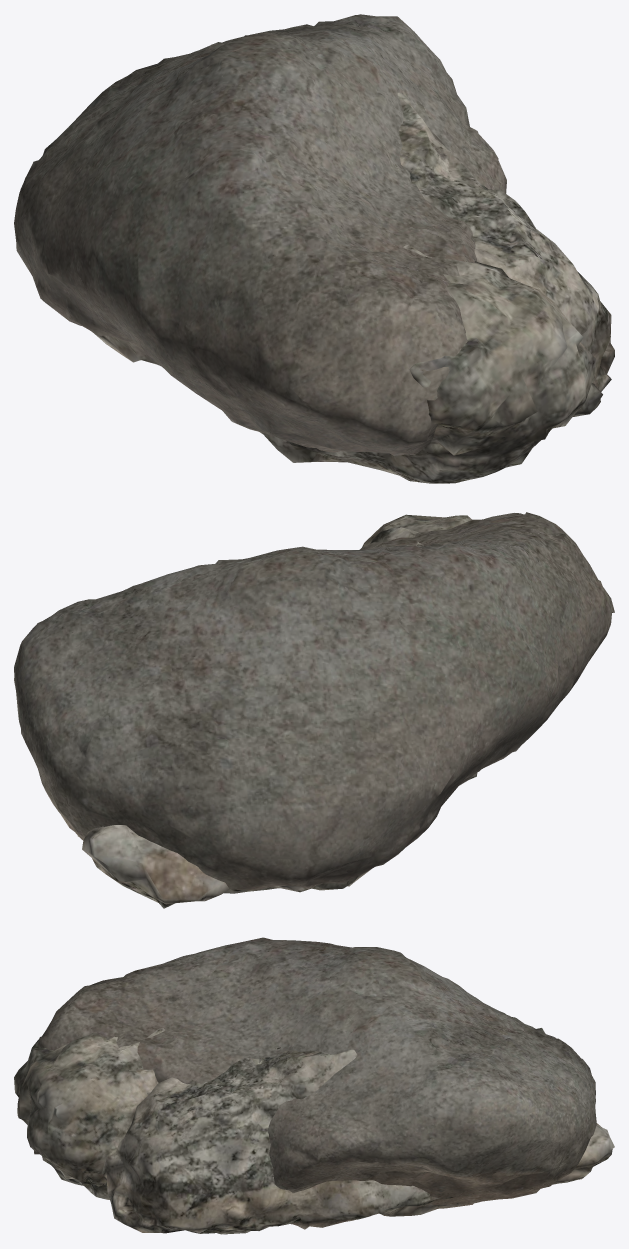
Rendered from namaqualand_boulders_01.glb.
3 views of the same model, one above another, from view 1: azimuth 30°, elevation 25°; view 2: azimuth 150°, elevation 25°; view 3: azimuth 270°, elevation 25° (orthographic). The views are drawn at different scales.
Parts seen in each view (by area): view 1: namaqualand_boulders_01_a_LOD0, namaqualand_boulders_01_b_LOD0; view 2: namaqualand_boulders_01_a_LOD0, namaqualand_boulders_01_b_LOD0; view 3: namaqualand_boulders_01_a_LOD0, namaqualand_boulders_01_b_LOD0.
Part boxes in pixels (box(x1,y1,x2,y2)): namaqualand_boulders_01_a_LOD0: box(14, 14, 506, 455); namaqualand_boulders_01_b_LOD0: box(92, 92, 614, 483); namaqualand_boulders_01_a_LOD0: box(14, 512, 614, 890); namaqualand_boulders_01_b_LOD0: box(77, 514, 477, 908); namaqualand_boulders_01_a_LOD0: box(37, 937, 596, 1229); namaqualand_boulders_01_b_LOD0: box(14, 1028, 614, 1234).
Size of what is drawn, in the model's own units: 0.363 by 0.2501 by 0.5859.
Materials: 1 (1 with a texture image).
